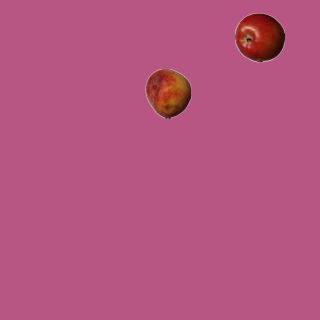Apple Braeburn: (234, 12, 284, 62)
Peach: (143, 68, 193, 118)
